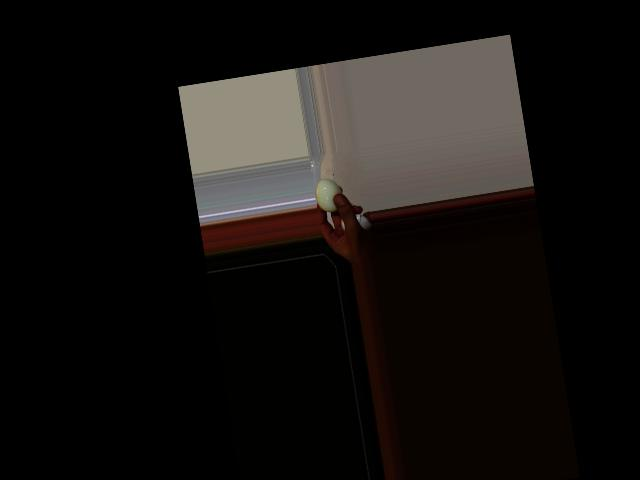egg: (312, 176, 345, 213)
